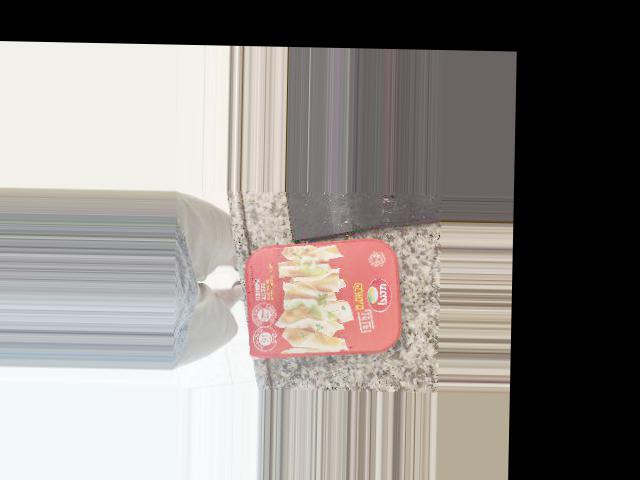cheese: (214, 216, 374, 344)
